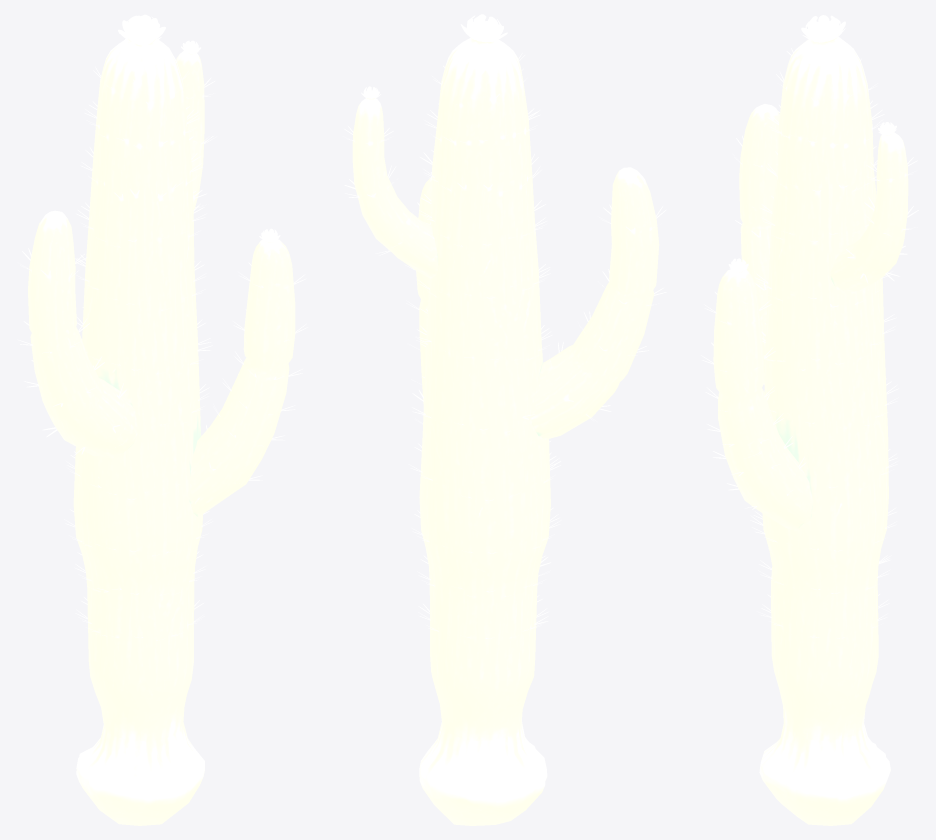
The picture shows the model from 3 angles, left to right: view 1: azimuth 30°, elevation 25°; view 2: azimuth 150°, elevation 25°; view 3: azimuth 270°, elevation 25°; orthographic projection.
Visible parts, largest first — view 1: SM_Cactus_Pipe_LOD0; view 2: SM_Cactus_Pipe_LOD0; view 3: SM_Cactus_Pipe_LOD0.
Boxes of the visible parts, x1=… form: SM_Cactus_Pipe_LOD0: x1=17, y1=14, x2=307, y2=825; SM_Cactus_Pipe_LOD0: x1=343, y1=14, x2=666, y2=825; SM_Cactus_Pipe_LOD0: x1=701, y1=15, x2=918, y2=825.
Bounding box in the file's own units: 1.75 × 4.97 × 1.25.
Materials: 1 (1 with a texture image).
